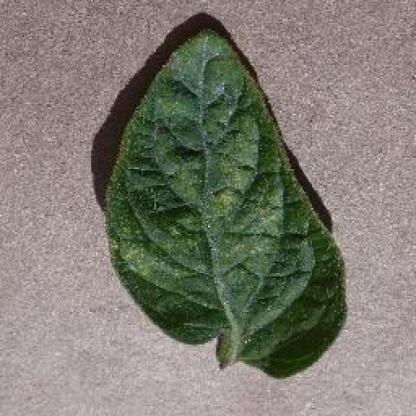Tomato_Spider_Mites: (104, 28, 345, 377)
